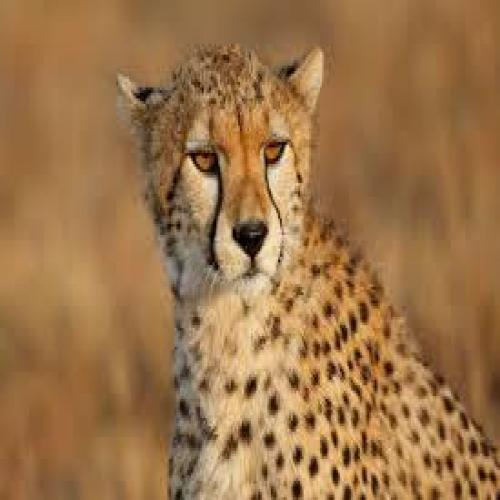cheetah-endangered: (116, 46, 500, 500)
